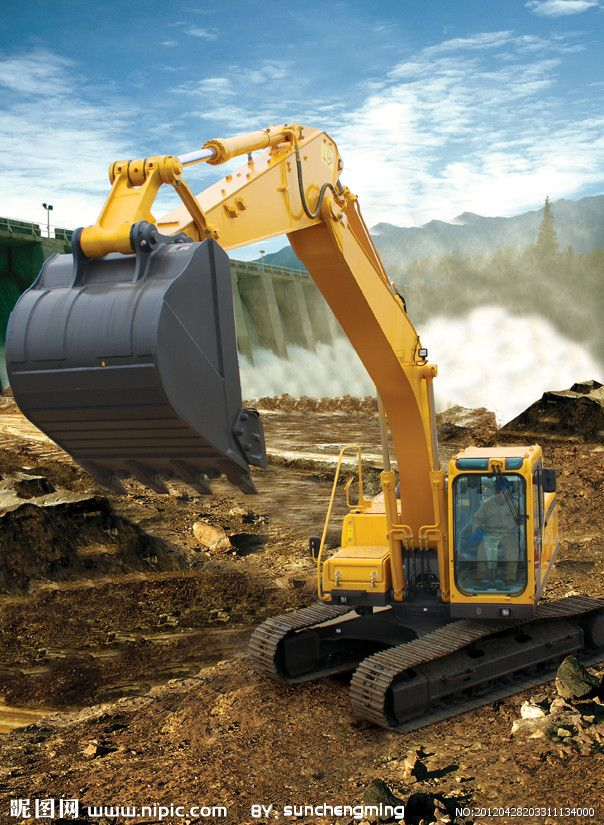excavator: (5, 129, 604, 733)
